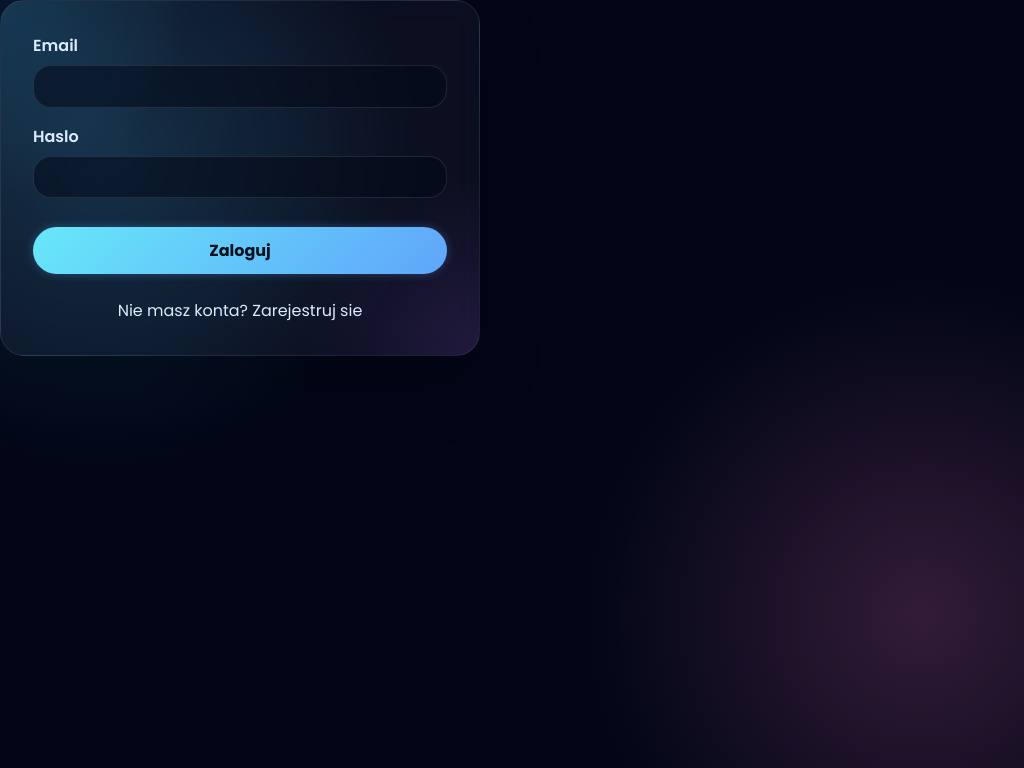
Scenario: LoginForm › shows error message on unexpected error
The width and height of the screenshot is (1024, 768).
In the field labelled "Email": [240, 86] box 33,65 -> 447,108, type "jan@example.com"
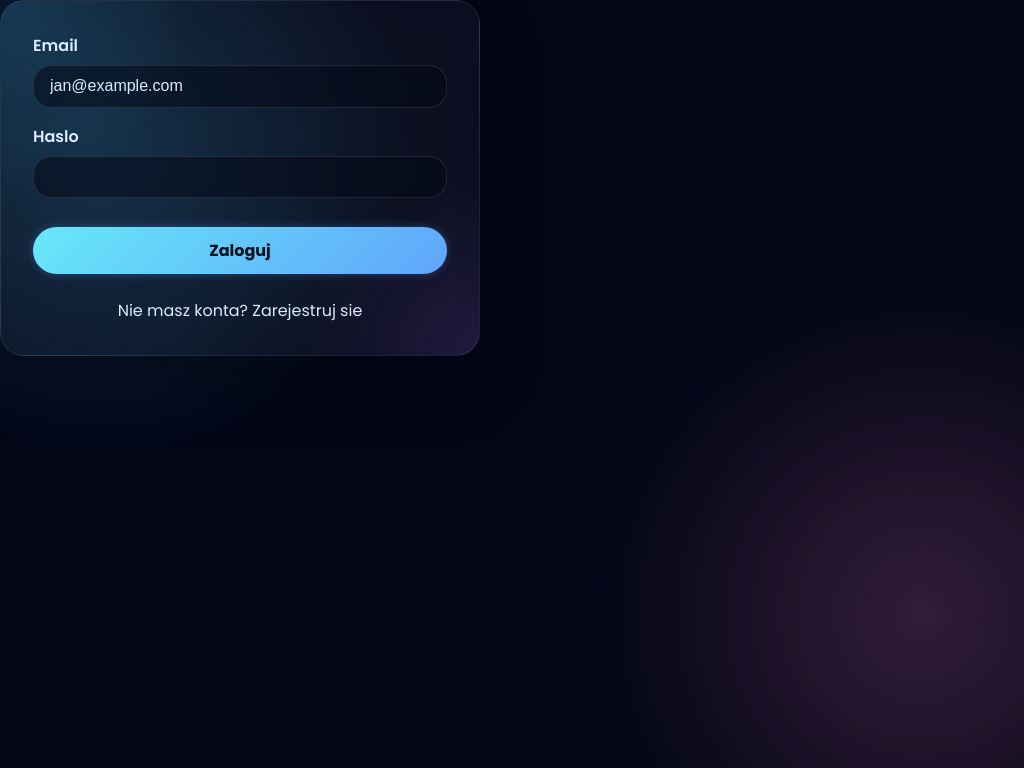
In the password field labelled "Haslo": [240, 177] box 33,156 -> 447,198, type "haslo123"
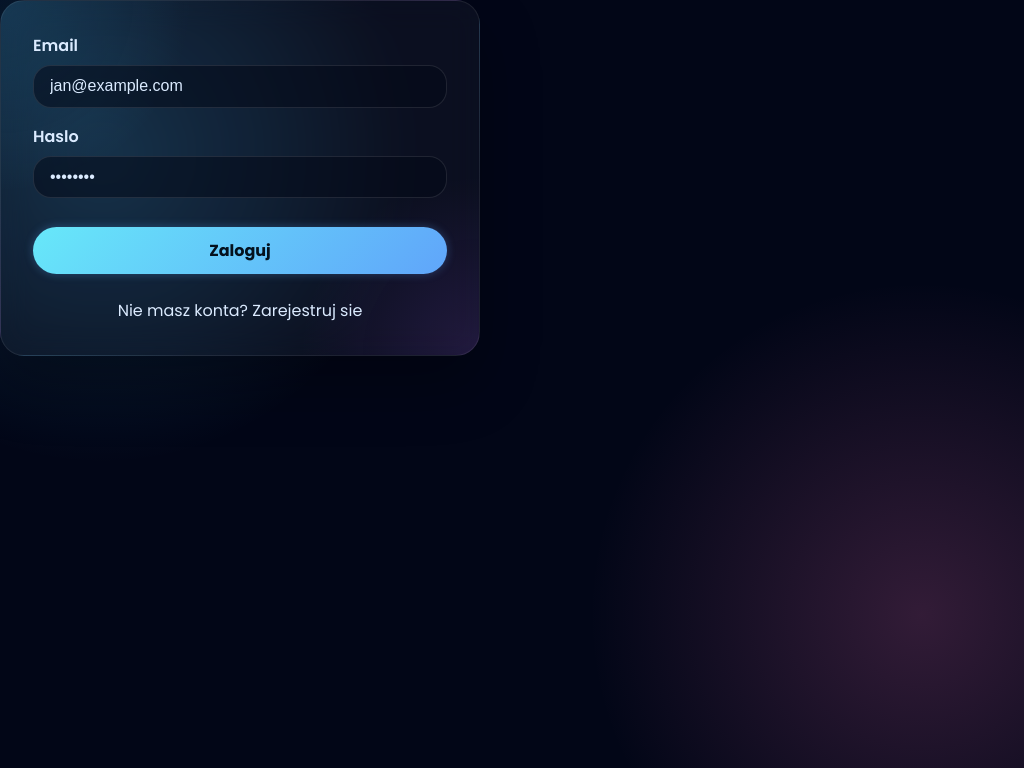
Click the button "Zaloguj": [240, 251] box 33,227 -> 447,274
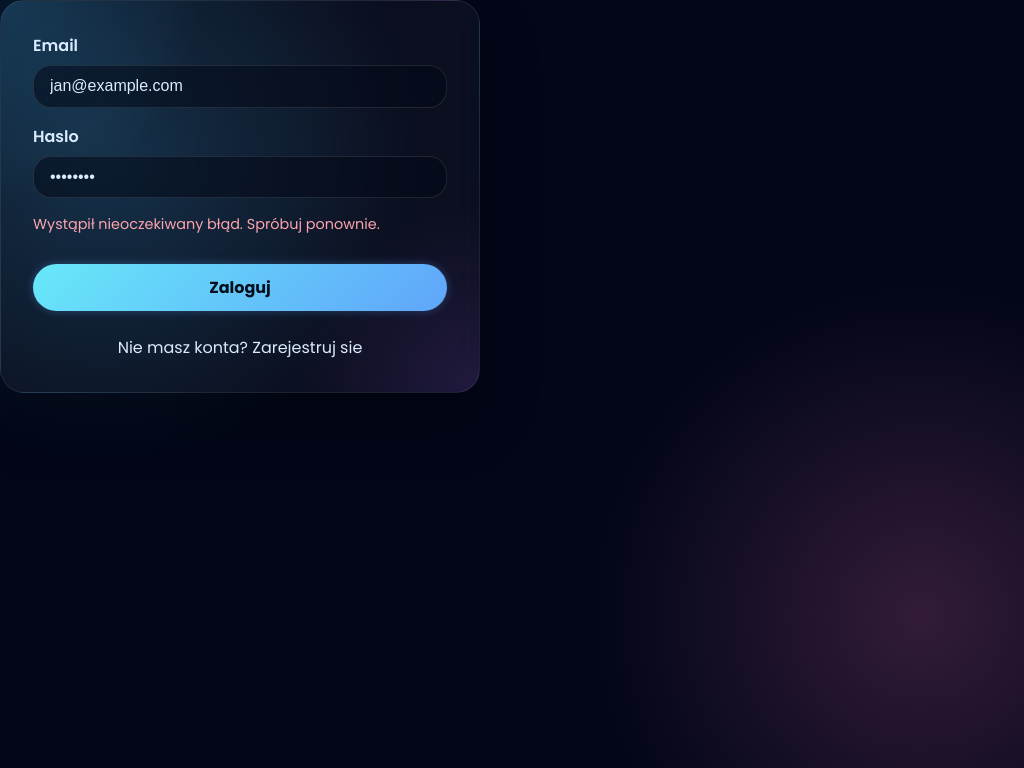
Now the text "Wystąpił nieoczekiwany błąd. Spróbuj ponownie." is shown, box 33,214 -> 380,234
